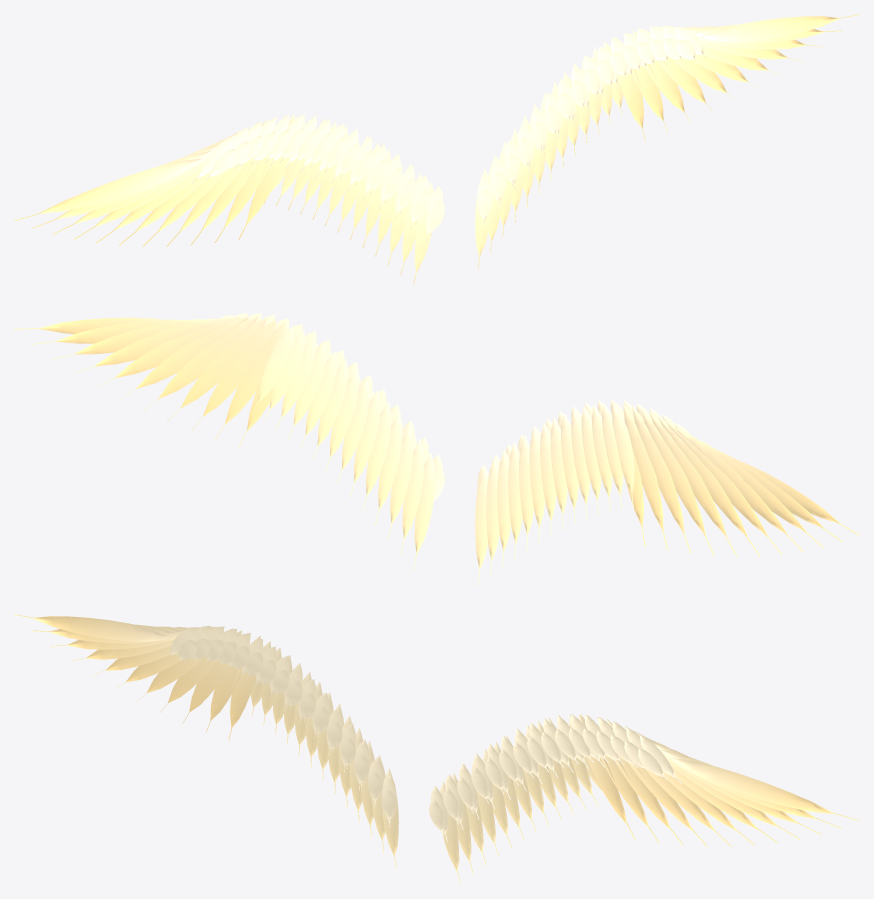
Rendered from Asas.glb.
3 views of the same model, one above another, from view 1: azimuth 30°, elevation 25°; view 2: azimuth 150°, elevation 25°; view 3: azimuth 330°, elevation 25° (orthographic).
Parts seen in each view (by area): view 1: AsaDireita, AsaEsquerda; view 2: AsaEsquerda, AsaDireita; view 3: AsaEsquerda, AsaDireita.
Boxes of the visible parts, <box> form: AsaDireita: <box>14,114,444,284</box>; AsaEsquerda: <box>475,14,859,268</box>; AsaEsquerda: <box>14,313,444,569</box>; AsaDireita: <box>475,399,859,585</box>; AsaEsquerda: <box>429,714,859,884</box>; AsaDireita: <box>14,614,398,868</box>.
Size of the model in its own units: 8.32 by 1.98 by 0.4378.
